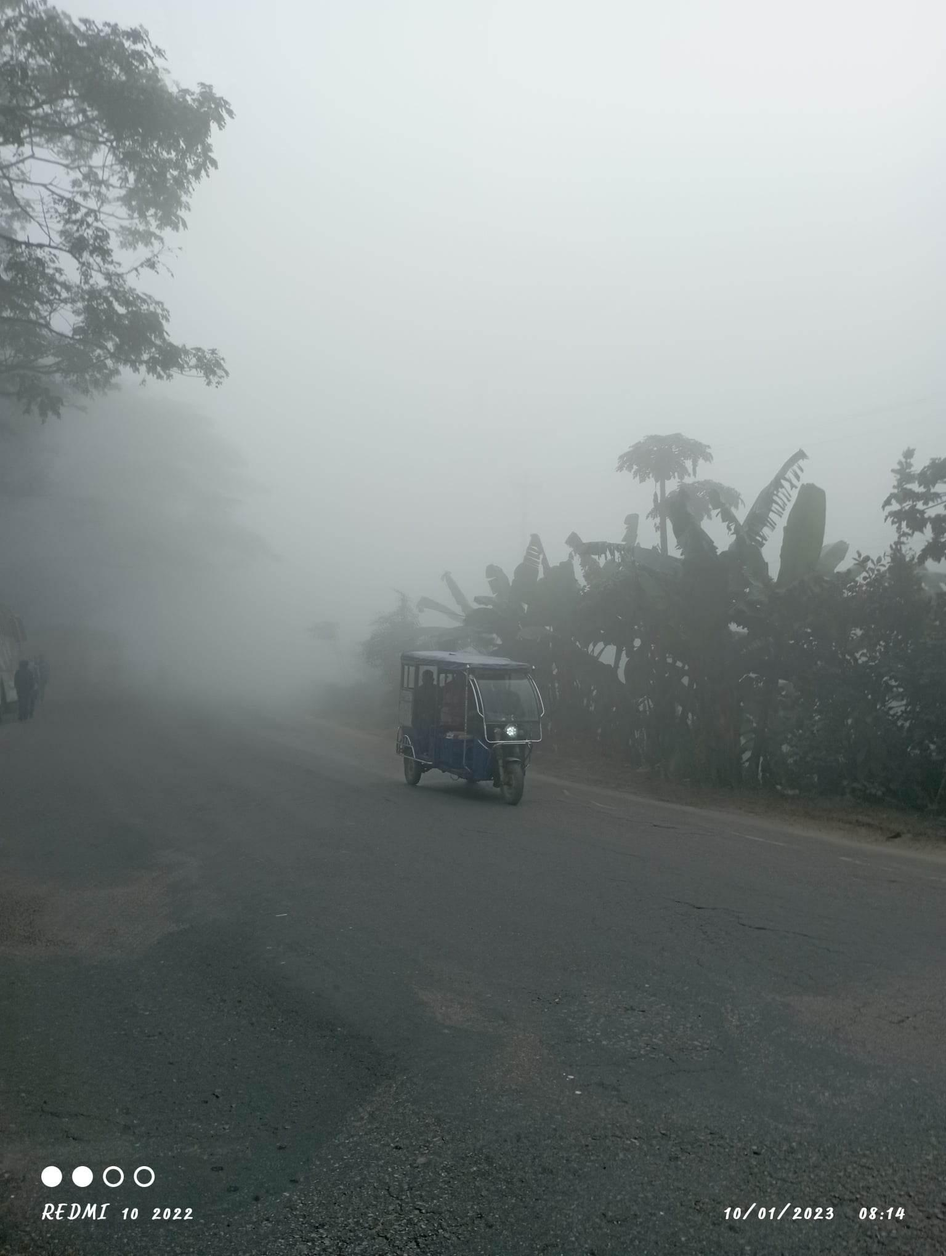Car: (387, 634, 555, 813)
